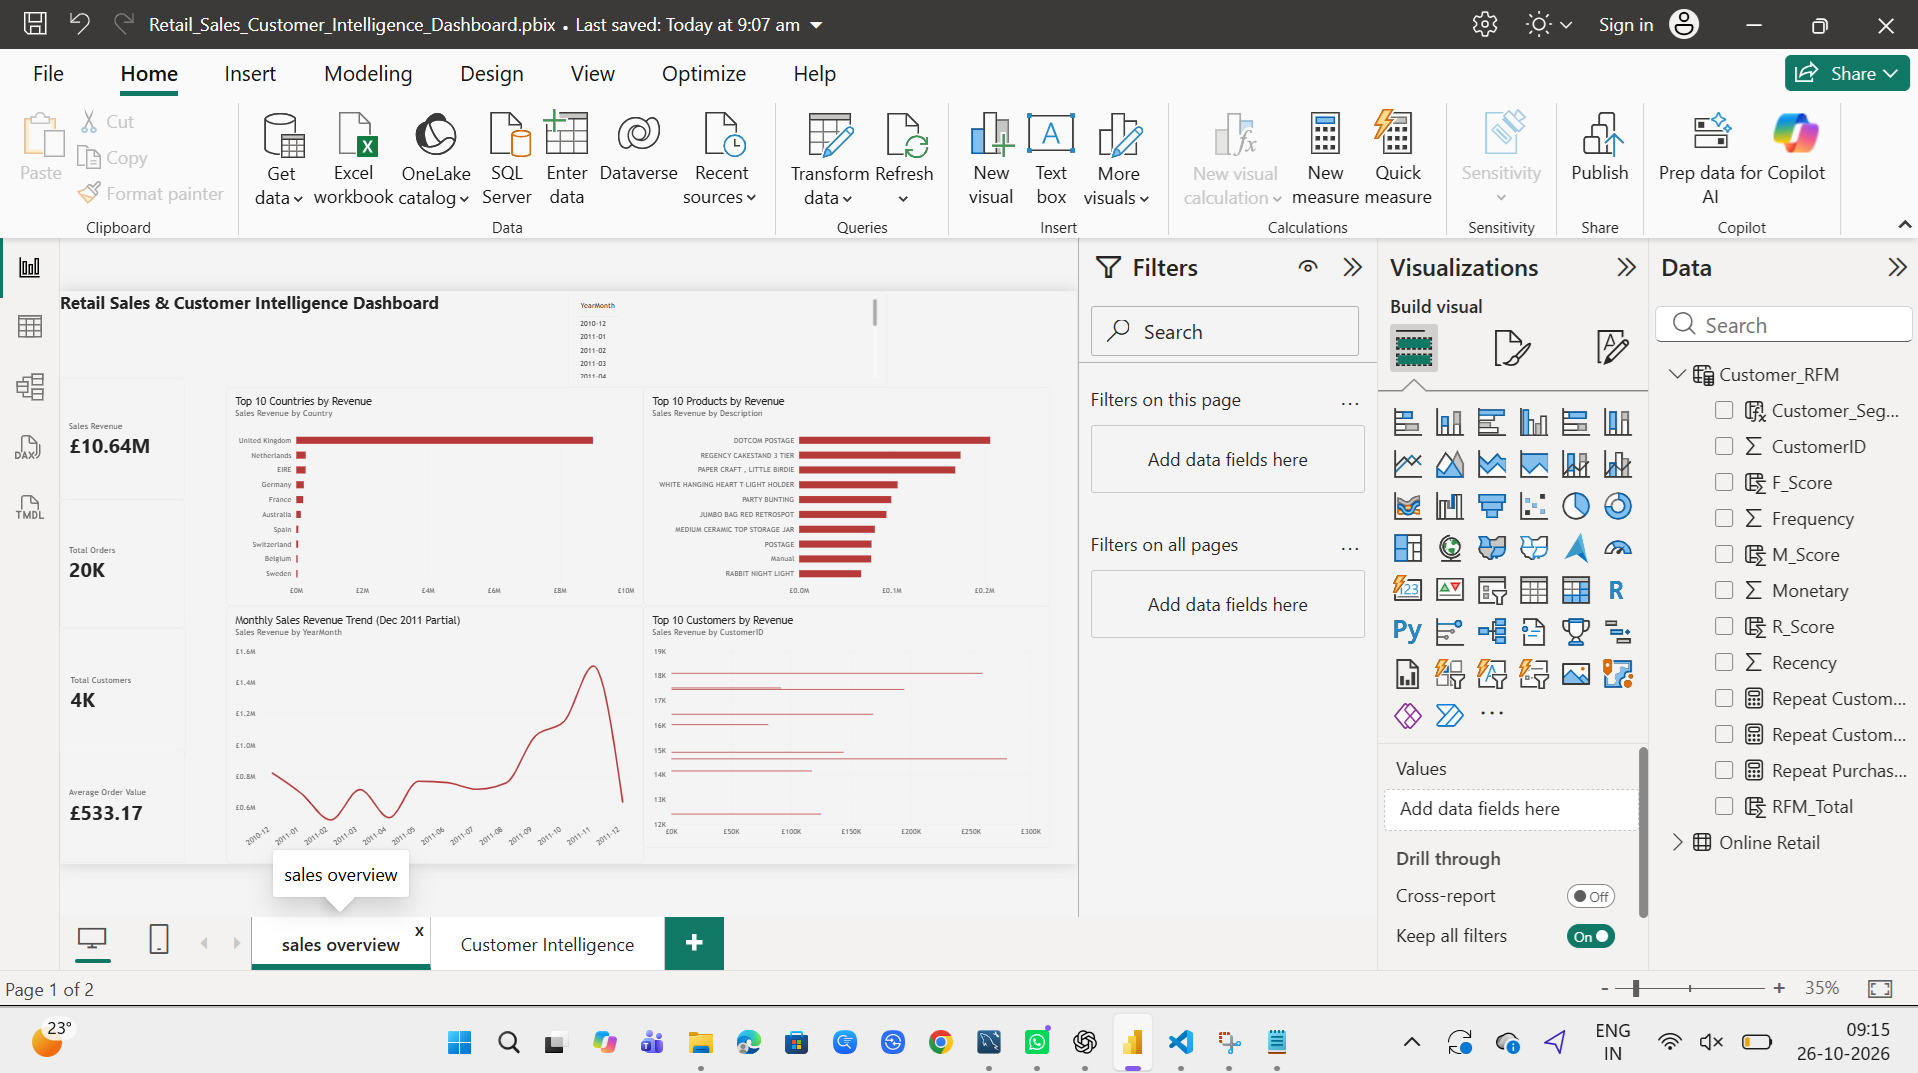

What the dashboard file says about the page in this screenshot:
{"tool":"powerbi","page":{"name":"sales overview","canvas":[1920,1080],"ordinal":0},"visuals":[{"type":"cardVisual","fields":{"Data":["Online Retail.Sales Revenue"]},"box":[0,163.3,235,230],"z":0},{"type":"cardVisual","fields":{"Data":["Online Retail.Total Orders"]},"box":[0,393.3,235,242.5],"z":1000},{"type":"cardVisual","fields":{"Data":["Online Retail.Total Customers"]},"box":[1.7,636.7,235,245],"z":2000},{"type":"cardVisual","fields":{"Data":["Online Retail.Average Order Value"]},"box":[0,863.3,235,216.7],"z":3000},{"type":"clusteredBarChart","title":"Top 10 Countries by Revenue","fields":{"Category":["Online Retail.Country"],"Y":["Online Retail.Sales Revenue"]},"box":[314.2,181.2,786.9,413.3],"z":4000},{"type":"lineChart","title":"Monthly Sales Revenue Trend (Dec 2011 Partial)","fields":{"Category":["Online Retail.YearMonth"],"Y":["Online Retail.Sales Revenue"]},"box":[314.2,594.4,786.9,486.8],"z":5000},{"type":"tableEx","fields":{"Values":["Online Retail.YearMonth"]},"box":[959.5,0,600.1,181.2],"z":6000},{"type":"textbox","box":[320,908,694,172],"z":7000},{"type":"textbox","box":[1015,908,695,172],"z":8000},{"type":"textbox","box":[1710,908,210,172],"z":9000},{"type":"textbox","box":[0,0,930,182.5],"z":10000},{"type":"clusteredBarChart","title":"Top 10 Customers by Revenue","fields":{"Category":["Online Retail.CustomerID"],"Y":["Online Retail.Sales Revenue"]},"box":[1101.1,594.4,767.1,455.7],"z":11000},{"type":"clusteredBarChart","title":"Top 10 Products by Revenue","fields":{"Category":["Online Retail.Description"],"Y":["Online Retail.Sales Revenue"]},"box":[1101.1,181.2,767.1,413.3],"z":12000}]}

Visuals, with their boxes on the page's 1920x1080 design canvas (x1, y1, x2, y2). These are canvas units, not pixel positions in the 1918x1073 screenshot, which may show the page scaled, cropped or inside an application window:
cardVisual - Online Retail.Sales Revenue: locate(0, 163, 235, 393)
cardVisual - Online Retail.Total Orders: locate(0, 393, 235, 636)
cardVisual - Online Retail.Total Customers: locate(2, 637, 237, 882)
cardVisual - Online Retail.Average Order Value: locate(0, 863, 235, 1080)
"Top 10 Countries by Revenue" clusteredBarChart: locate(314, 181, 1101, 594)
"Monthly Sales Revenue Trend (Dec 2011 Partial)" lineChart: locate(314, 594, 1101, 1081)
tableEx - Online Retail.YearMonth: locate(960, 0, 1560, 181)
textbox: locate(320, 908, 1014, 1080)
textbox: locate(1015, 908, 1710, 1080)
textbox: locate(1710, 908, 1920, 1080)
textbox: locate(0, 0, 930, 182)
"Top 10 Customers by Revenue" clusteredBarChart: locate(1101, 594, 1868, 1050)
"Top 10 Products by Revenue" clusteredBarChart: locate(1101, 181, 1868, 594)
